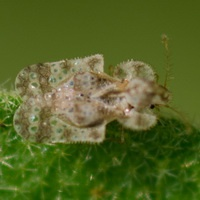insect: (13, 54, 171, 142)
